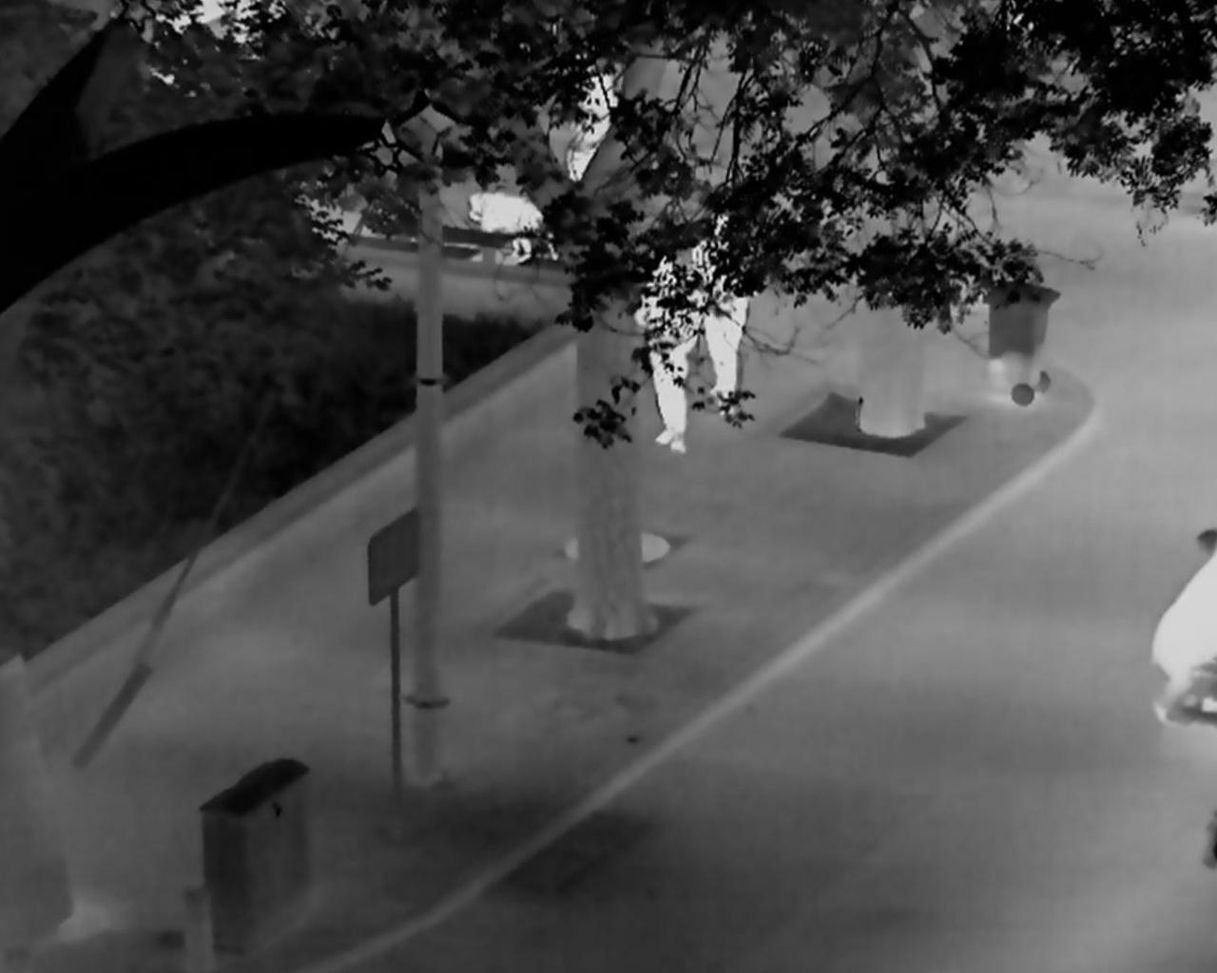person: (634, 250, 701, 456), (697, 211, 751, 415), (563, 77, 619, 183)
